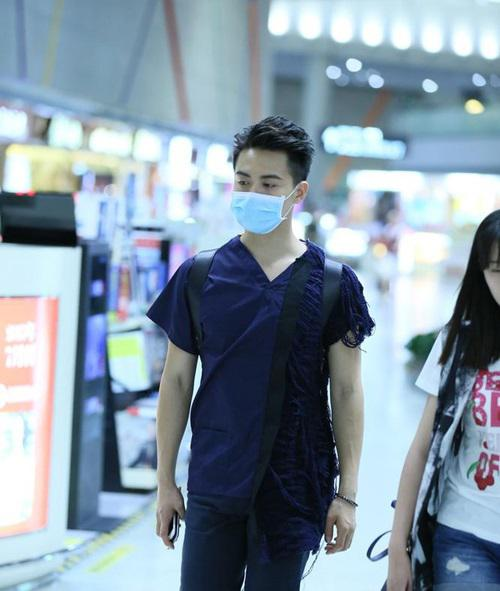OK: (233, 169, 295, 231)
